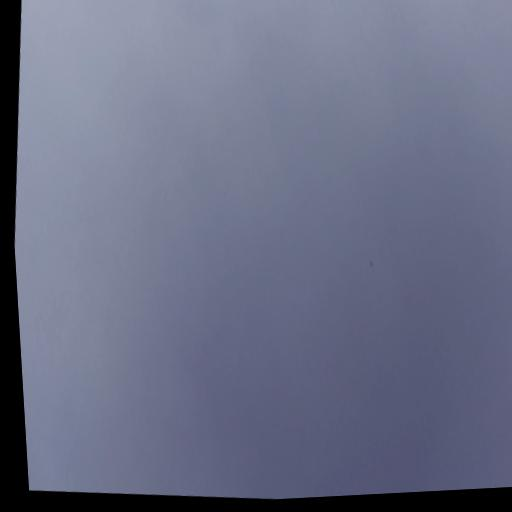drones: (368, 259, 375, 269)
